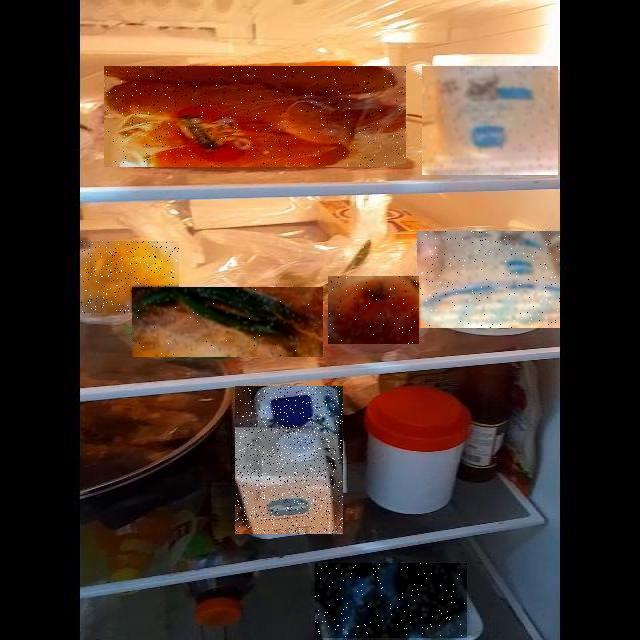Broccoli: (315, 563, 467, 638)
Carrot: (104, 66, 406, 167)
Chillies: (132, 287, 323, 357)
Lemon: (80, 241, 179, 313)
Milk: (235, 386, 343, 534)
Tomato Paste: (328, 276, 419, 344)
Yoghurt: (422, 66, 558, 175), (417, 231, 560, 328)
